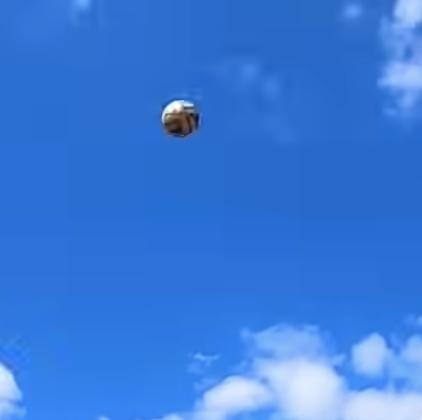ball: (161, 99, 200, 136)
